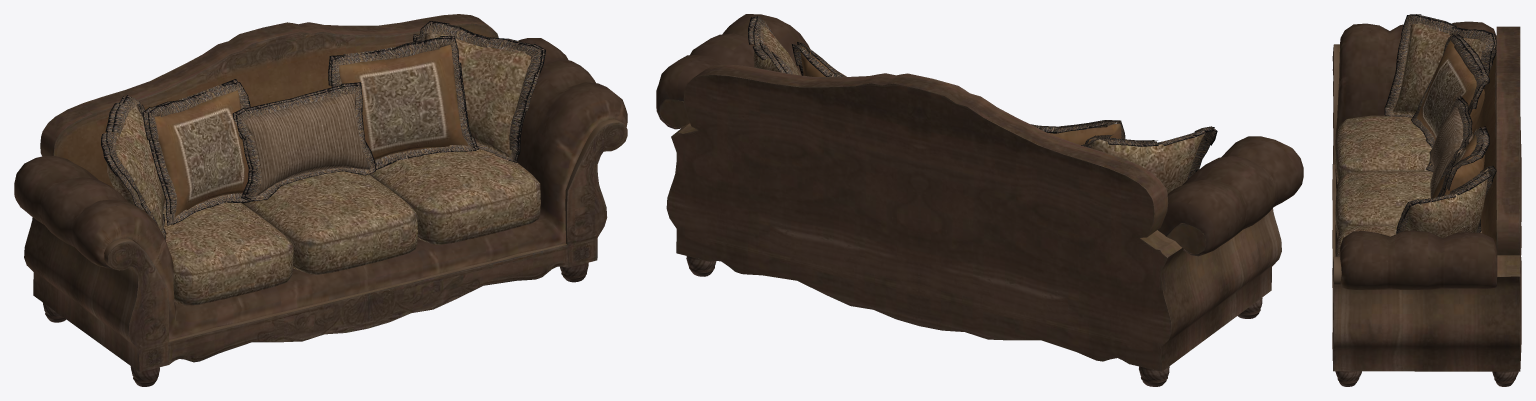
File: sofa_marrom.obj
3 views of the same model, side by side, from view 1: azimuth 30°, elevation 25°; view 2: azimuth 150°, elevation 25°; view 3: azimuth 270°, elevation 25° (orthographic). The views are drawn at different scales.
Visible parts, largest first — view 1: sofa_2_sofa_2_0; view 2: sofa_2_sofa_2_0; view 3: sofa_2_sofa_2_0.
Boxes of the visible parts, x1,y1,x2,y2 form: sofa_2_sofa_2_0: [14, 14, 627, 386]; sofa_2_sofa_2_0: [656, 14, 1303, 386]; sofa_2_sofa_2_0: [1332, 14, 1521, 386].
Size of the model in its own units: 2.73 by 1.12 by 0.9251.
1 material, 1 textured.
